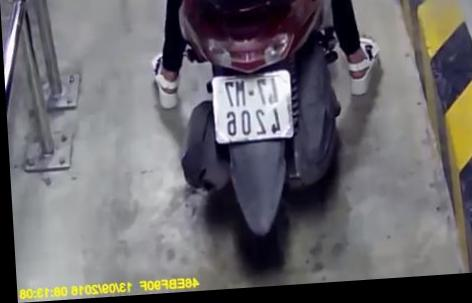License_Plate: (203, 64, 302, 152)
